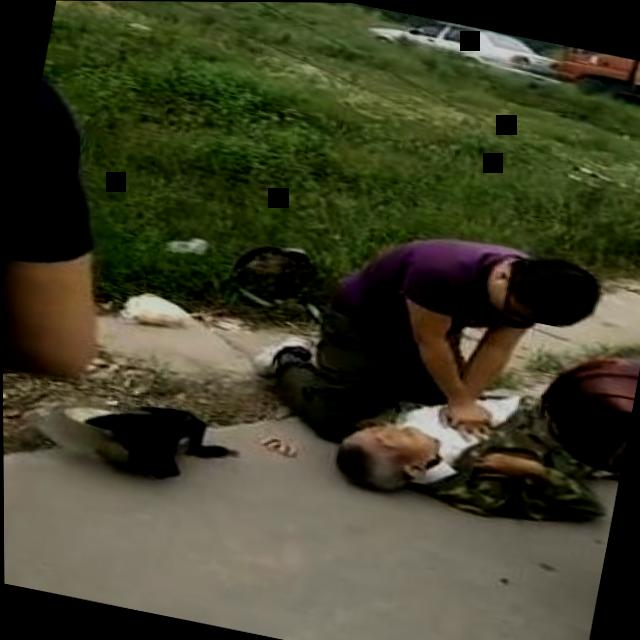Fall-Detected: (326, 344, 634, 540)
